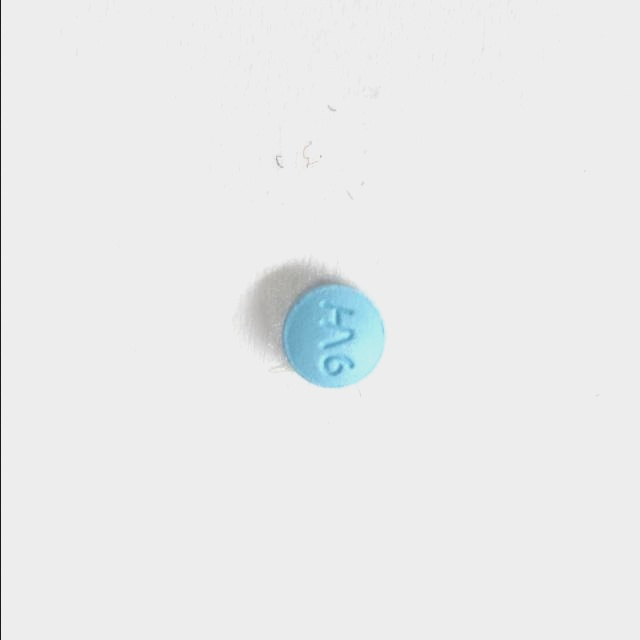pill: (278, 276, 396, 392)
